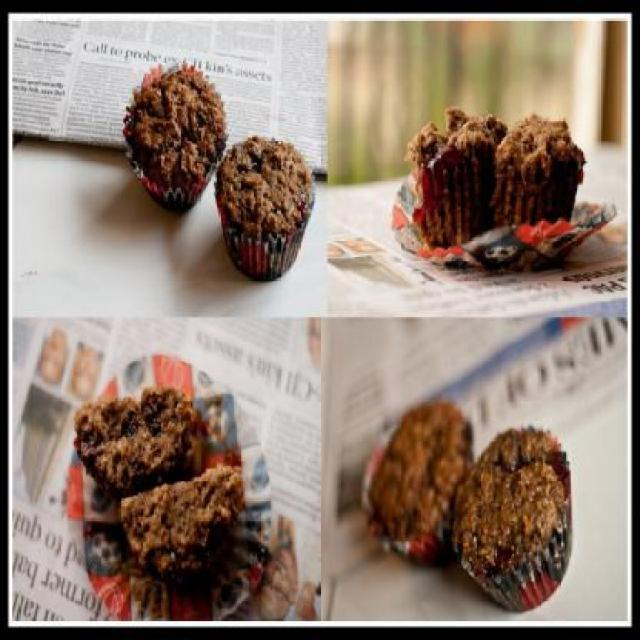Muffin: (447, 419, 575, 610), (362, 397, 478, 571), (122, 56, 232, 222), (398, 105, 508, 252), (214, 128, 318, 282), (118, 464, 242, 586), (76, 391, 200, 498), (488, 102, 586, 236)
